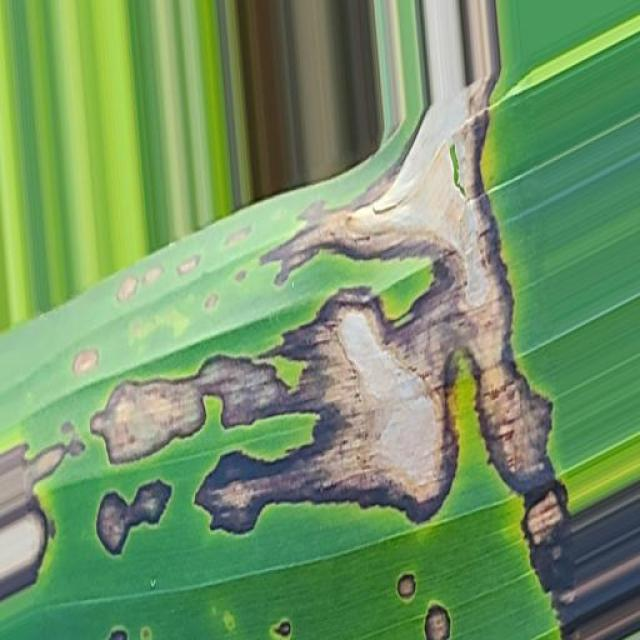Early_rust: (0, 68, 587, 640)
